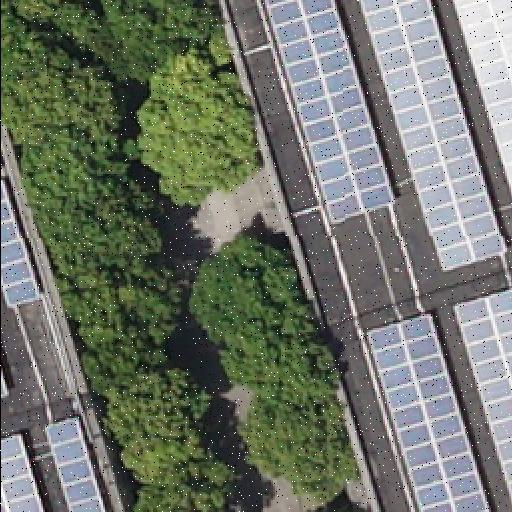solar-panel: (357, 0, 507, 272), (261, 0, 395, 224), (365, 312, 491, 512), (449, 289, 511, 503), (449, 0, 511, 196), (44, 416, 108, 512), (0, 180, 40, 312), (1, 433, 47, 511), (0, 370, 8, 398)
